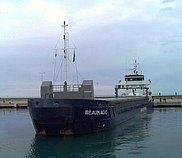Ship: (27, 55, 156, 138)
